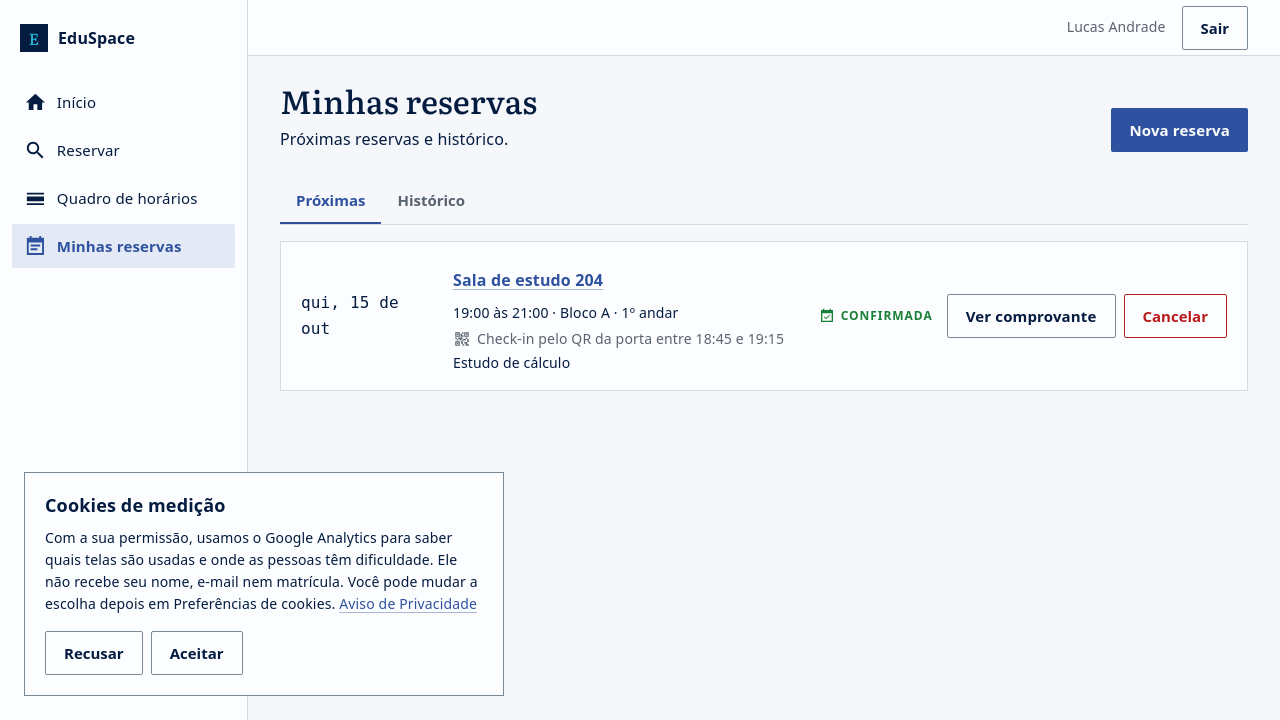
check-in in my reservations (#43) › tells when to read the door QR and shows confirmed and released reservations
Check: the text "Check-in pelo QR da porta entre 18:45 e 19:15" is shown, box left=477, top=328, right=784, bottom=350
Click the tab "Histórico": (431, 200) left=381, top=176, right=481, bottom=224
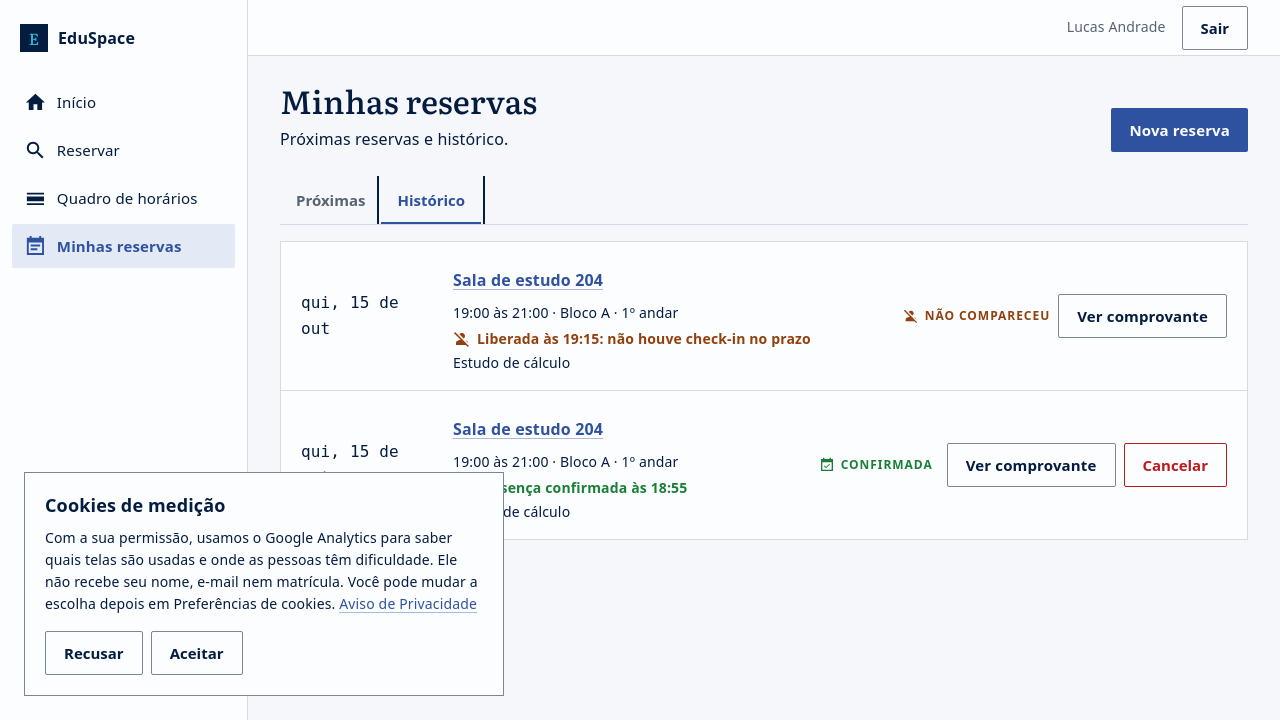
Check: the text "Não compareceu" is shown, box left=925, top=306, right=1050, bottom=326
Check: the text "Liberada às 19:15: não houve check-in no prazo" is shown, box left=477, top=328, right=811, bottom=350
Check: the text "Presença confirmada às 18:55" is shown, box left=477, top=477, right=687, bottom=499
